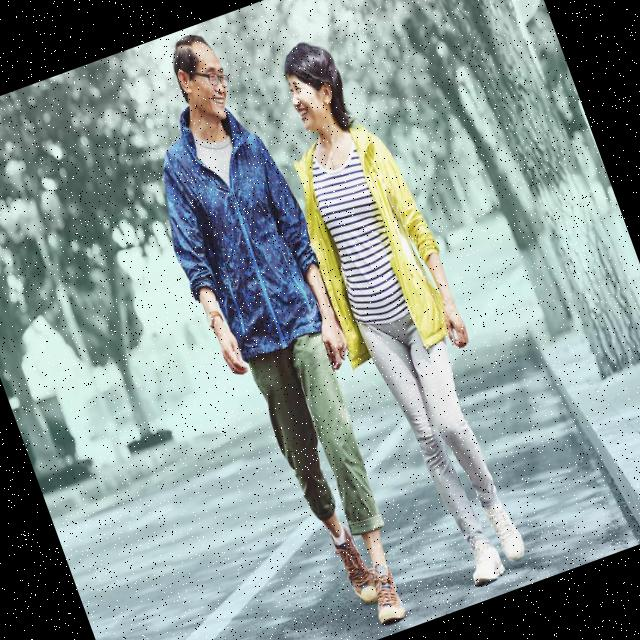Person: (105, 15, 444, 640), (244, 21, 554, 604)
